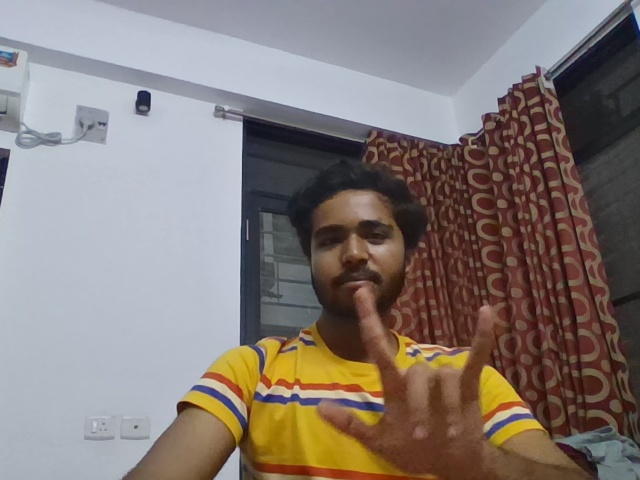I Love You: (311, 282, 520, 478)
